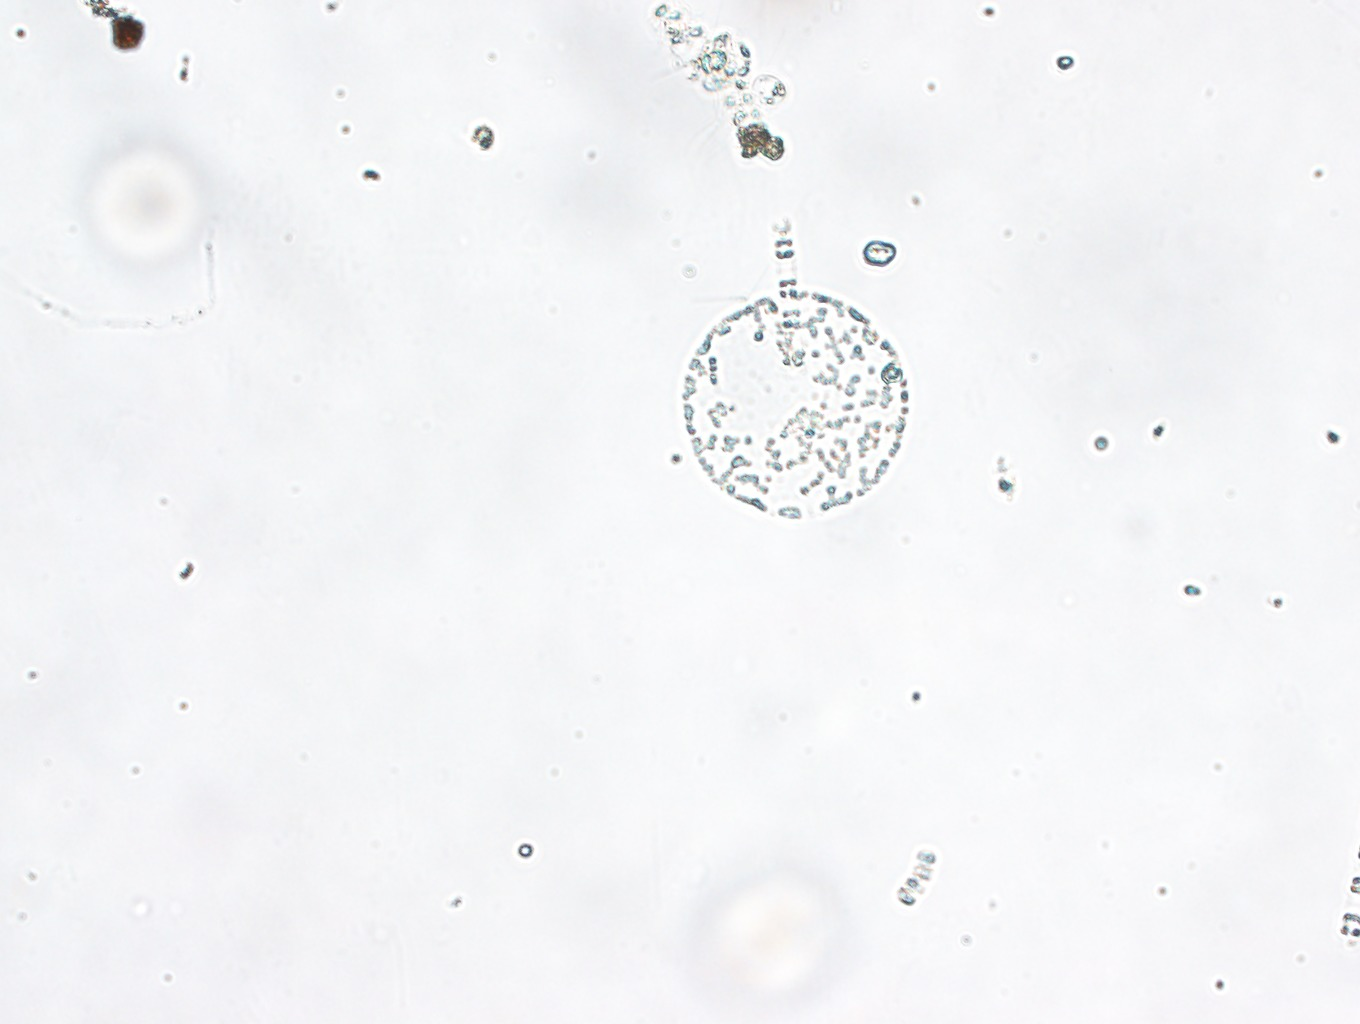coscinodiscus: (681, 287, 907, 520)
